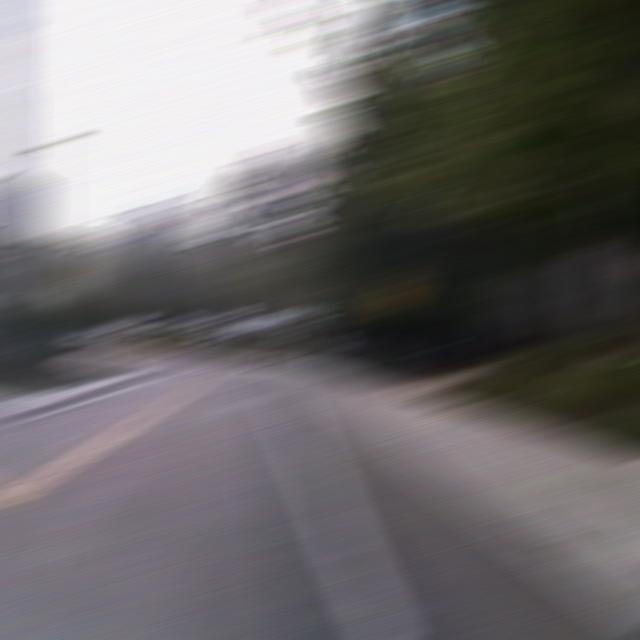pedestrianCrossing: (371, 276, 422, 317)
